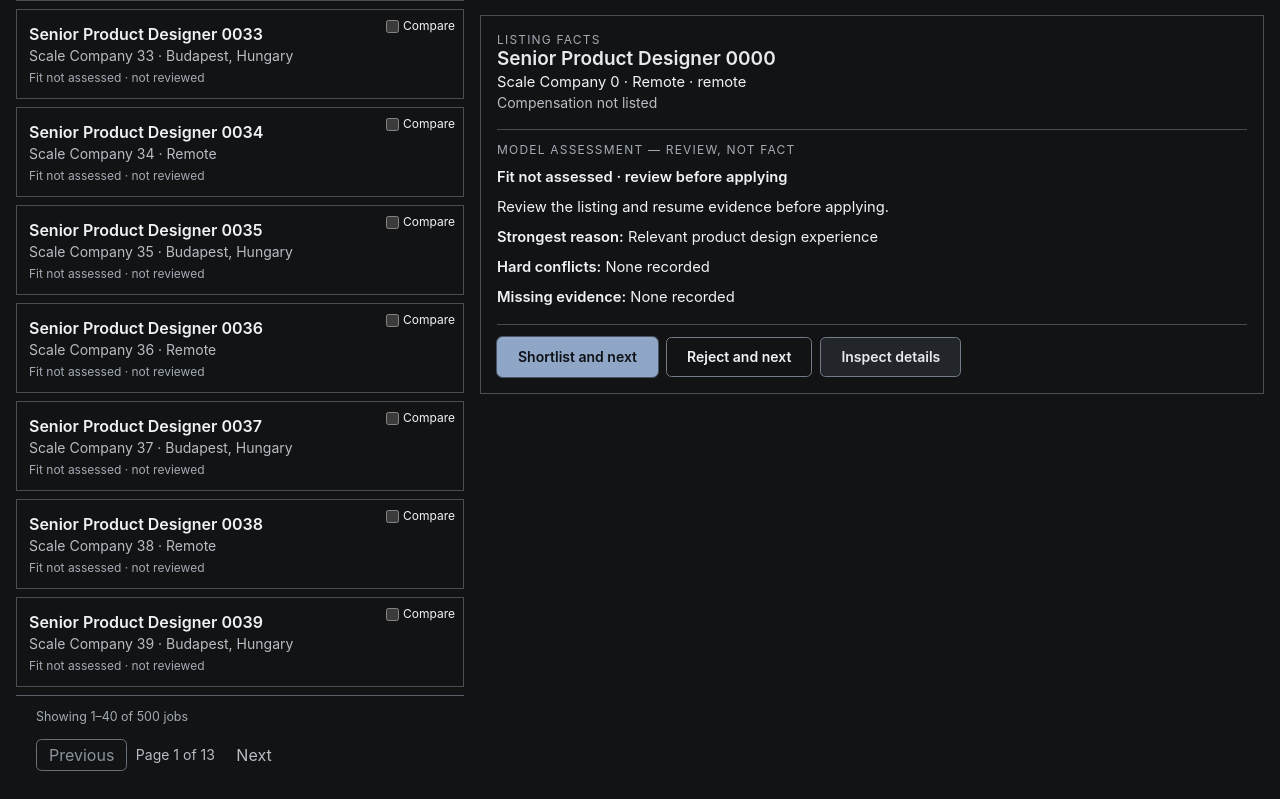
Scenario: RapidReviewScreen pagination consistency › lands Next/Previous on the exact boundary rows with matching details
(page scrolled)
Click the button with aria-label "Next page" at (254, 755), box x1=223 y1=739 x2=285 y2=771
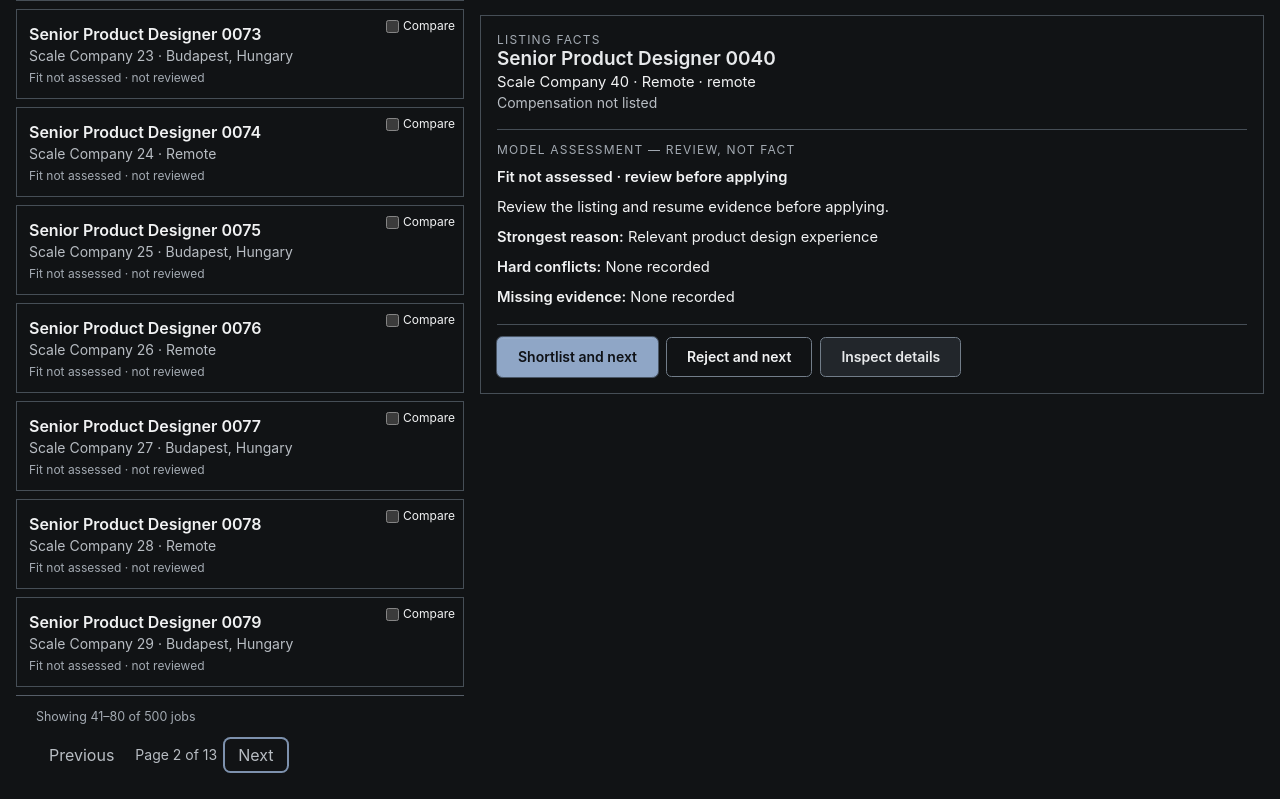
expect the text "Showing 41–80 of 500 jobs" is shown: met, box x1=36 y1=708 x2=196 y2=727
expect the element "Senior Product Designer 0040" is shown: met, box x1=480 y1=15 x2=1264 y2=394
Click the button with aria-label "Previous page" at (82, 755), box x1=36 y1=739 x2=127 y2=771
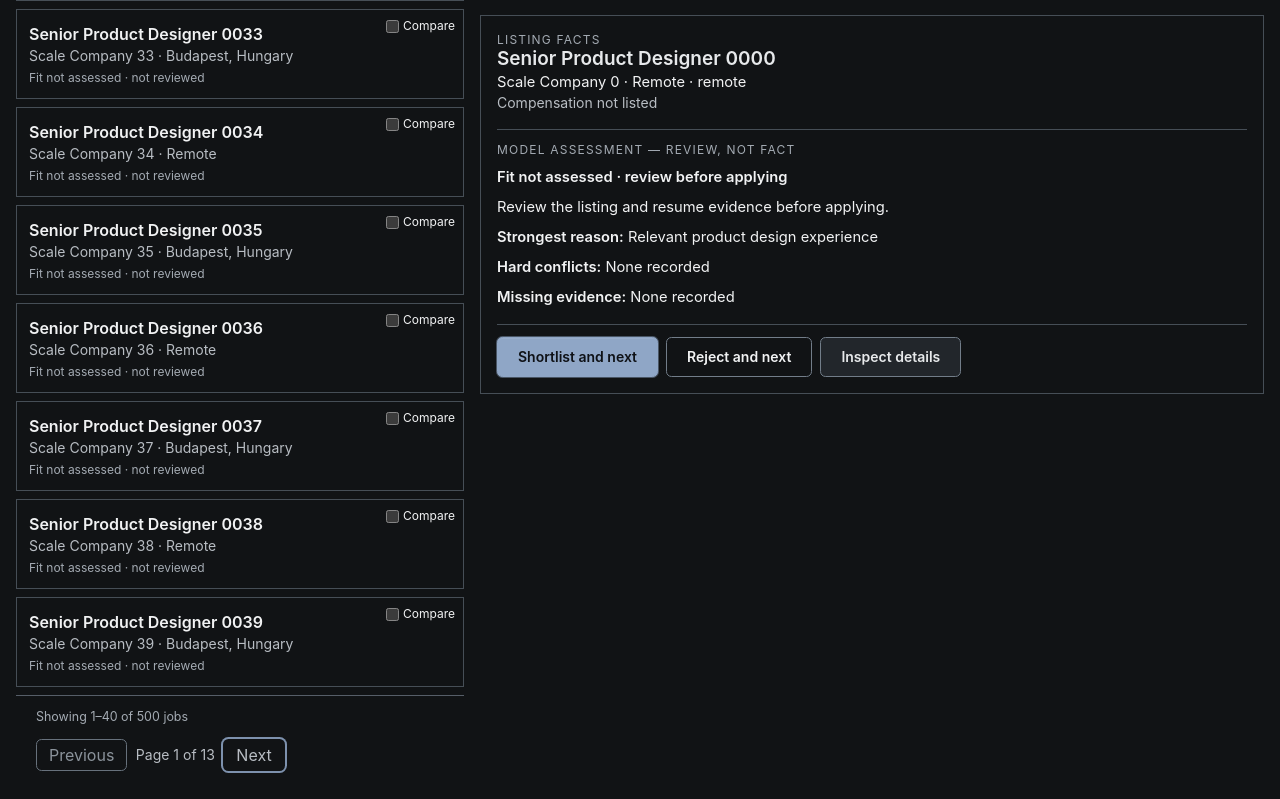
expect the text "Showing 1–40 of 500 jobs" is shown: met, box x1=36 y1=708 x2=188 y2=727
expect the element "Senior Product Designer 0000" is shown: met, box x1=480 y1=15 x2=1264 y2=394
